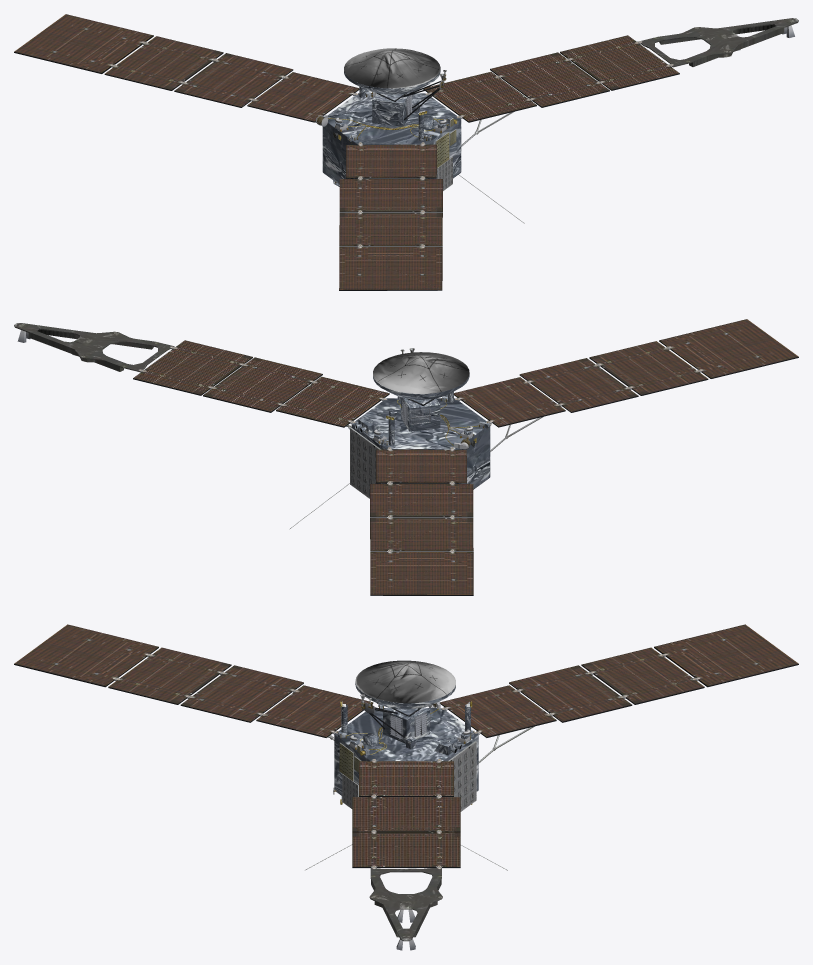
The model's file is space-juno.glb.
3 renders of one model, top to bottom at view 1: azimuth 30°, elevation 25°; view 2: azimuth 150°, elevation 25°; view 3: azimuth 270°, elevation 25°, orthographic. The views are drawn at different scales.
Visible parts, largest first — view 1: shiny_panels_Geometry-Body.021, dish_bottom_Geometry-Mesh, dish_top_Geometry-Mesh.002, solar_panels_Geometry-Body.006, black_krinkle_Geometry-Body.007, tex_01_Geometry-Body.003; view 2: shiny_panels_Geometry-Body.021, dish_bottom_Geometry-Mesh, dish_top_Geometry-Mesh.002, tex_01_Geometry-Body.003, solar_panels_Geometry-Body.006, black_krinkle_Geometry-Body.007; view 3: shiny_panels_Geometry-Body.021, dish_bottom_Geometry-Mesh, tex_01_Geometry-Body.003, dish_top_Geometry-Mesh.002, solar_panels_Geometry-Body.006, black_krinkle_Geometry-Body.007.
Part boxes in pixels (<box>): shiny_panels_Geometry-Body.021: <box>14,14,679,289</box>; dish_bottom_Geometry-Mesh: <box>322,69,461,186</box>; dish_top_Geometry-Mesh.002: <box>344,48,440,88</box>; solar_panels_Geometry-Body.006: <box>387,18,798,290</box>; black_krinkle_Geometry-Body.007: <box>14,35,679,290</box>; tex_01_Geometry-Body.003: <box>110,25,794,247</box>; shiny_panels_Geometry-Body.021: <box>133,319,798,594</box>; dish_bottom_Geometry-Mesh: <box>351,374,490,489</box>; dish_top_Geometry-Mesh.002: <box>373,352,469,393</box>; tex_01_Geometry-Body.003: <box>17,330,702,552</box>; solar_panels_Geometry-Body.006: <box>14,323,382,595</box>; black_krinkle_Geometry-Body.007: <box>133,340,798,595</box>; shiny_panels_Geometry-Body.021: <box>14,624,798,866</box>; dish_bottom_Geometry-Mesh: <box>334,682,478,800</box>; tex_01_Geometry-Body.003: <box>112,653,699,950</box>; dish_top_Geometry-Mesh.002: <box>355,660,455,703</box>; solar_panels_Geometry-Body.006: <box>352,868,460,941</box>; black_krinkle_Geometry-Body.007: <box>14,647,798,867</box>.
Bounding box in the file's own units: 17.66 × 4.26 × 18.54.
Materials: 9 (9 with a texture image).
